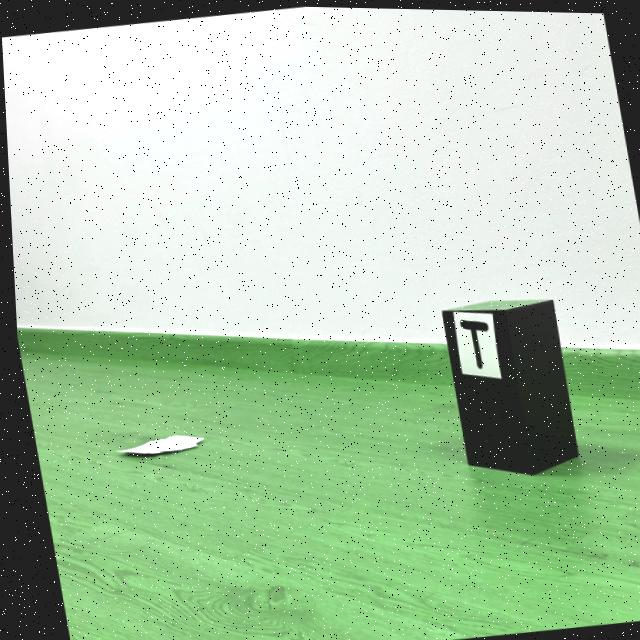T: (456, 317, 485, 366)
